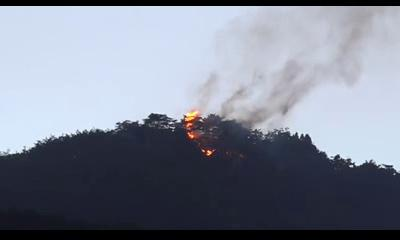fire: (186, 112, 196, 140)
smoke: (242, 76, 283, 116)
